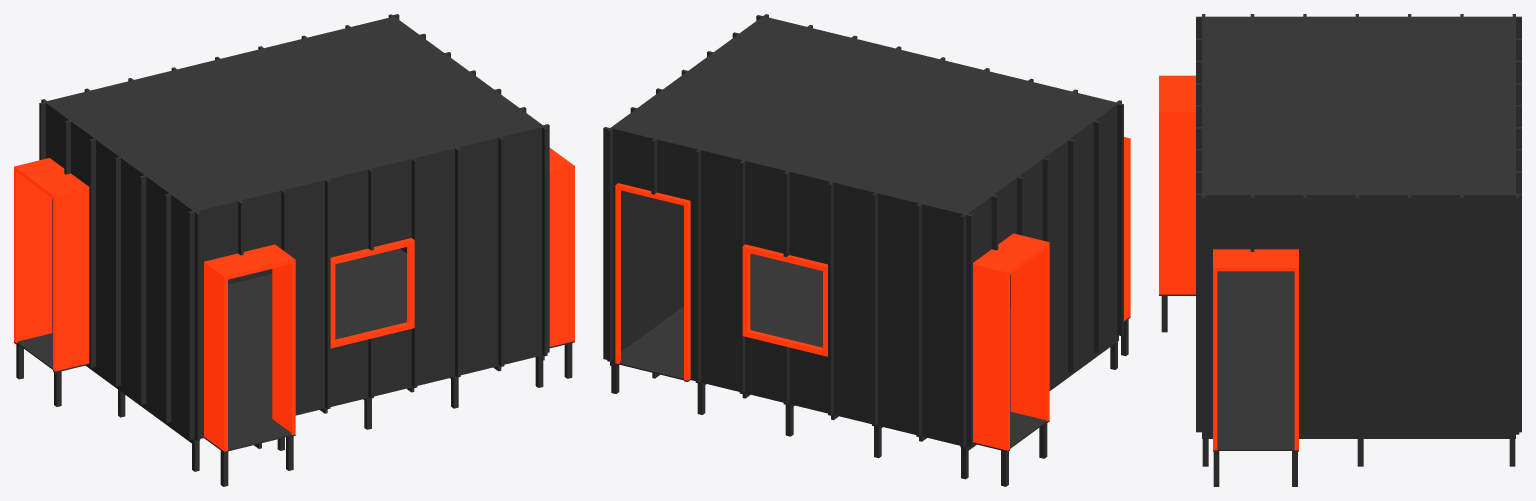
Rendered from VanAstenDoomen3.FBX.
The picture shows the model from 3 angles, left to right: view 1: azimuth 30°, elevation 25°; view 2: azimuth 150°, elevation 25°; view 3: azimuth 270°, elevation 25°; orthographic projection. The views are drawn at different scales.
Visible parts, largest first — view 1: VanAstenDoomen3; view 2: VanAstenDoomen3; view 3: VanAstenDoomen3.
Part boxes in pixels (bbox=[...]): VanAstenDoomen3: bbox=[14, 14, 574, 486]; VanAstenDoomen3: bbox=[603, 14, 1130, 486]; VanAstenDoomen3: bbox=[1159, 14, 1521, 486].
Size of what is drawn, in the model's own units: 592 by 423 by 354.
